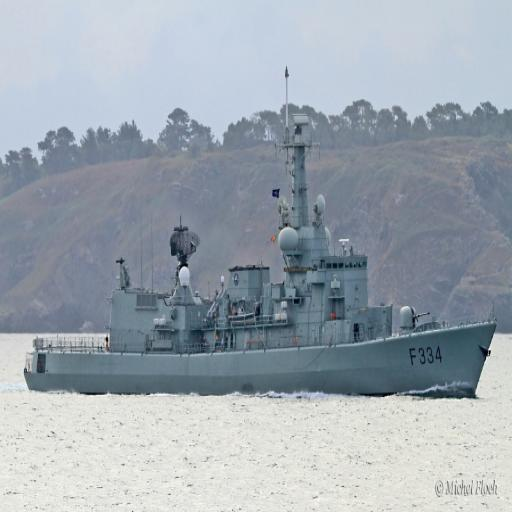Fragata: (22, 63, 502, 405)
